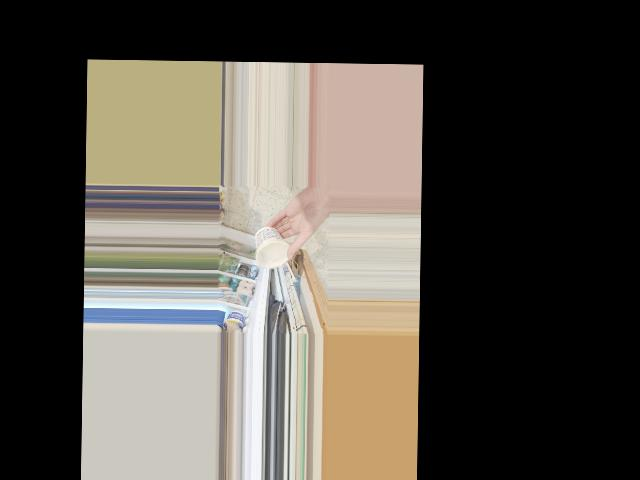cotage: (257, 225, 290, 269)
